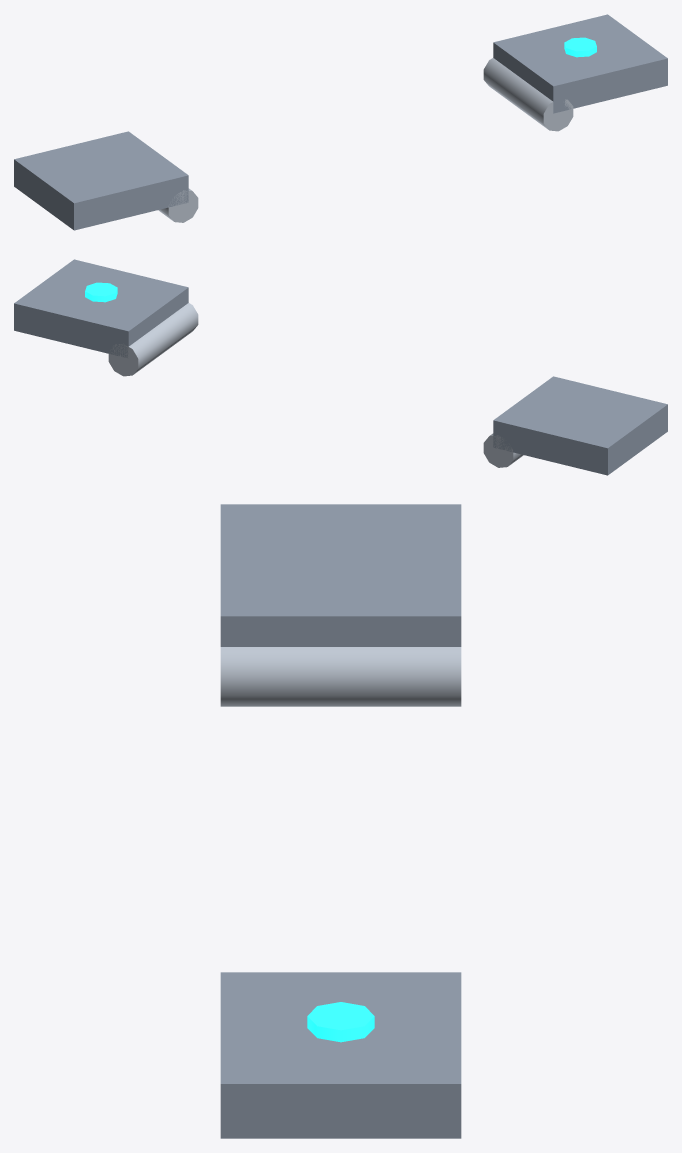
Rendered from tower_skywatch_rate_s2.glb.
The picture shows the model from 3 angles, top to bottom: view 1: azimuth 30°, elevation 25°; view 2: azimuth 150°, elevation 25°; view 3: azimuth 270°, elevation 25°; orthographic projection. The views are drawn at different scales.
Parts seen in each view (by area): view 1: skywatch_belt_guide_r, skywatch_belt_guide_l, skywatch_belt_guide_roller_l, skywatch_belt_guide_roller_r, skywatch_up_rate_l2_stud; view 2: skywatch_belt_guide_r, skywatch_belt_guide_l, skywatch_belt_guide_roller_l, skywatch_belt_guide_roller_r, skywatch_up_rate_l2_stud; view 3: skywatch_belt_guide_l, skywatch_belt_guide_r, skywatch_belt_guide_roller_r, skywatch_up_rate_l2_stud.
Boxes of the visible parts, box(x1,y1,x2,y2) form: skywatch_belt_guide_r: box(14, 131, 188, 230); skywatch_belt_guide_l: box(493, 14, 667, 113); skywatch_belt_guide_roller_l: box(483, 58, 573, 131); skywatch_belt_guide_roller_r: box(158, 188, 198, 222); skywatch_up_rate_l2_stud: box(564, 37, 596, 57); skywatch_belt_guide_r: box(493, 376, 667, 475); skywatch_belt_guide_l: box(14, 259, 188, 357); skywatch_belt_guide_roller_l: box(108, 303, 198, 376); skywatch_belt_guide_roller_r: box(483, 433, 523, 467); skywatch_up_rate_l2_stud: box(85, 282, 117, 302); skywatch_belt_guide_l: box(220, 972, 461, 1138); skywatch_belt_guide_r: box(220, 504, 461, 646); skywatch_belt_guide_roller_r: box(220, 647, 461, 706); skywatch_up_rate_l2_stud: box(307, 1002, 374, 1042).
Size of the model in its own units: 1.14 by 0.096 by 0.2.
